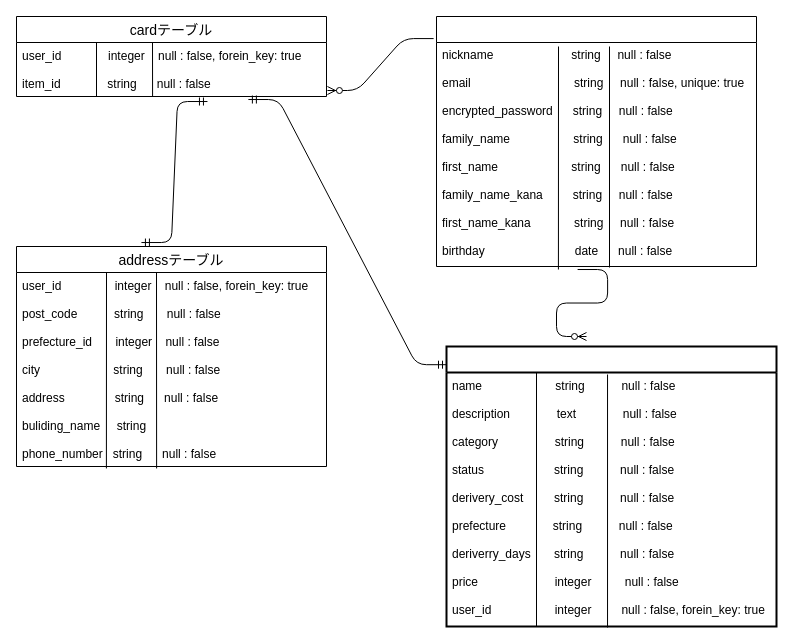
Image size: 793x644. Some labels were removed from this diagram. The shapes that lost their labels are listed below. From the top down, each one's box as (x1, y1, x2, y2) in pixels, then its label:
(436, 16, 756, 266): usersテーブル
(445, 345, 777, 627): itemsテーブル
